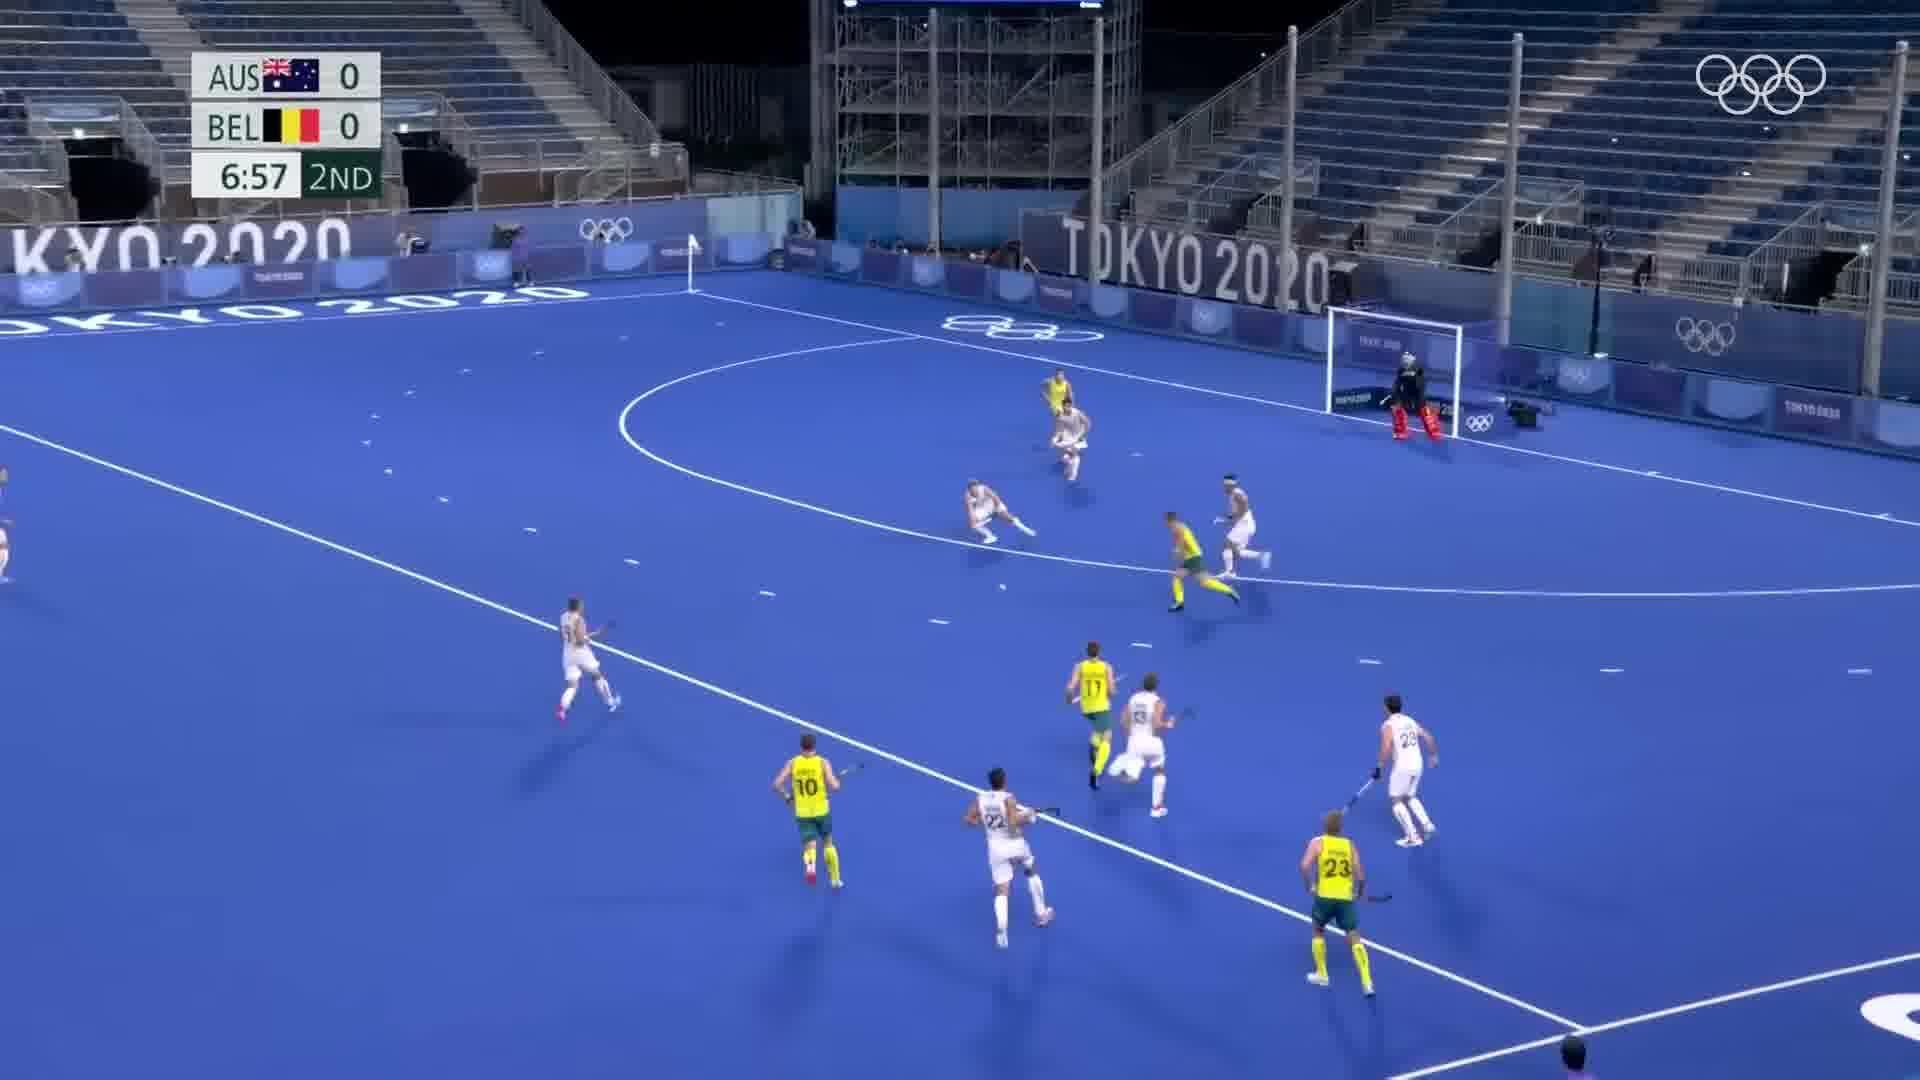ball: (990, 576, 1014, 596)
